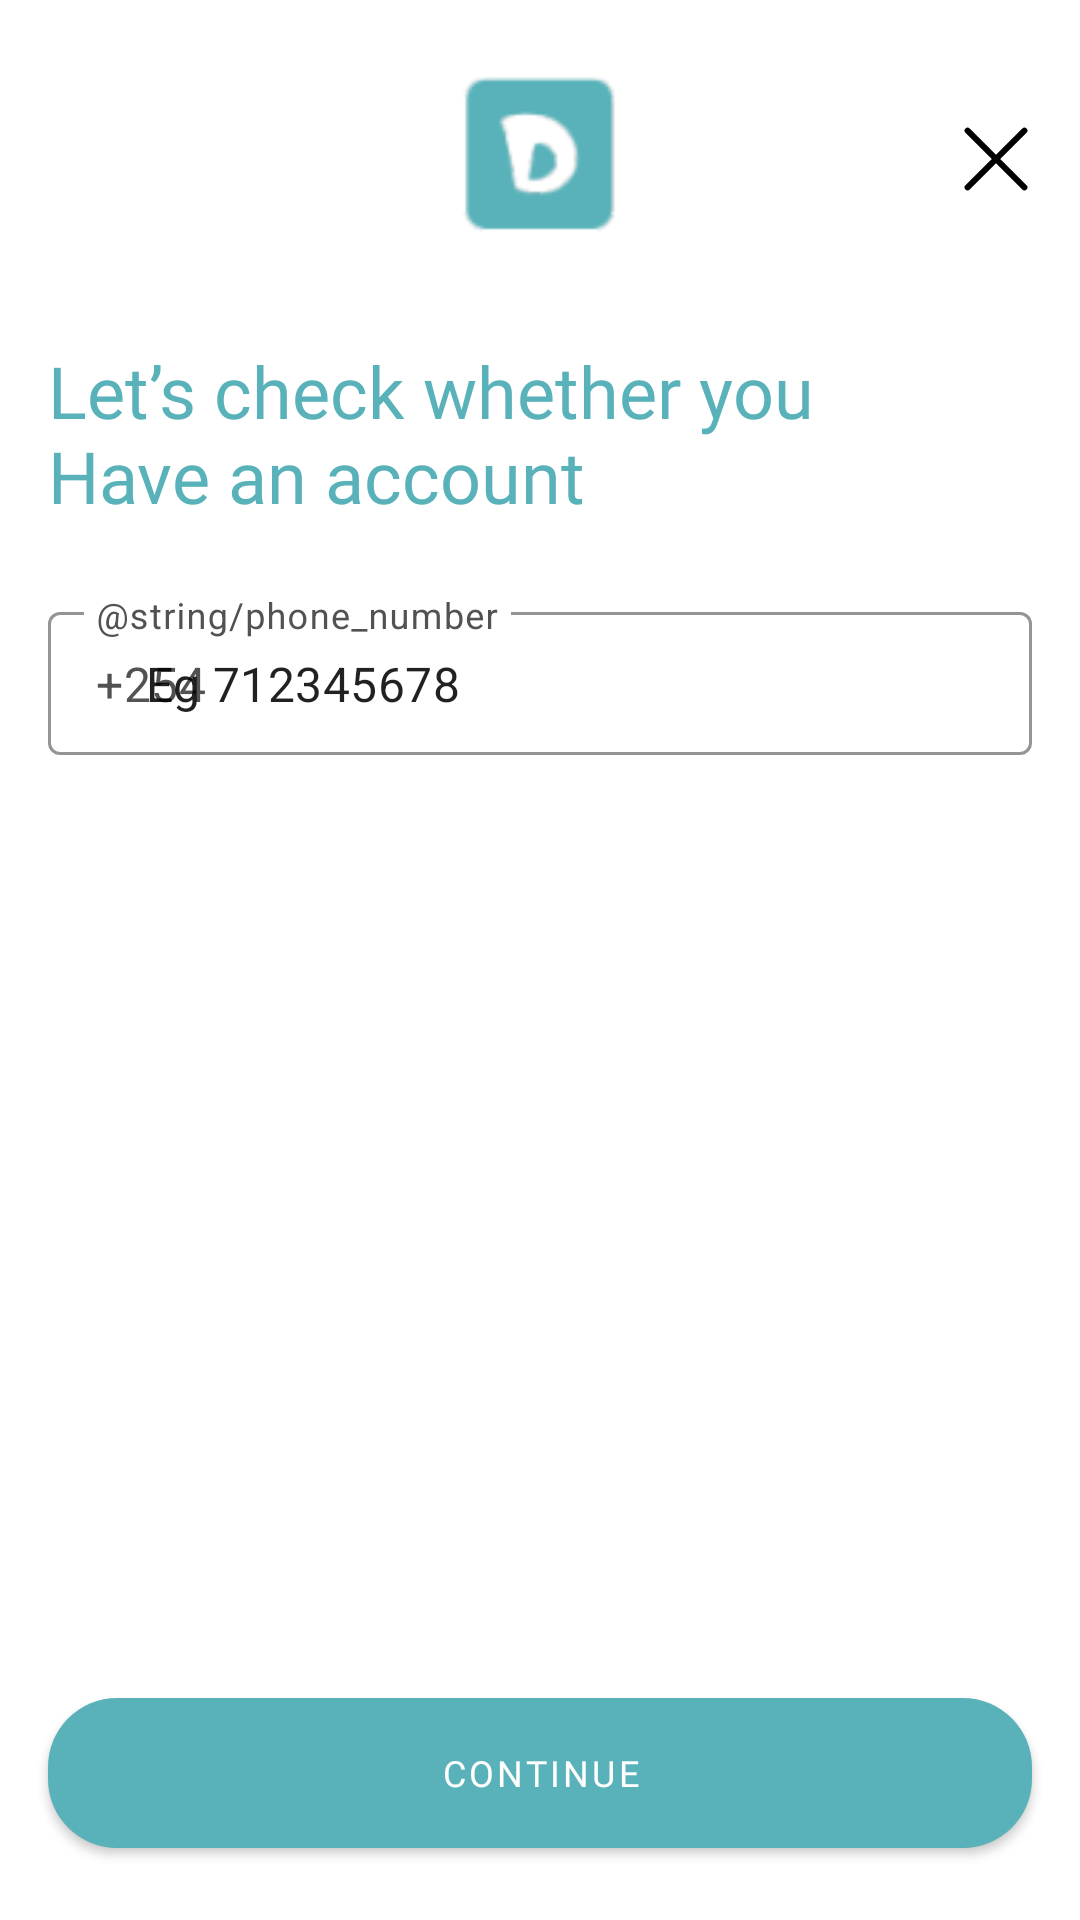

Named icons in this screenshot (1080px×1920px) and their bounding boxes, (x1, y1, x2, y2):
cancel: (964, 127, 1028, 191)
